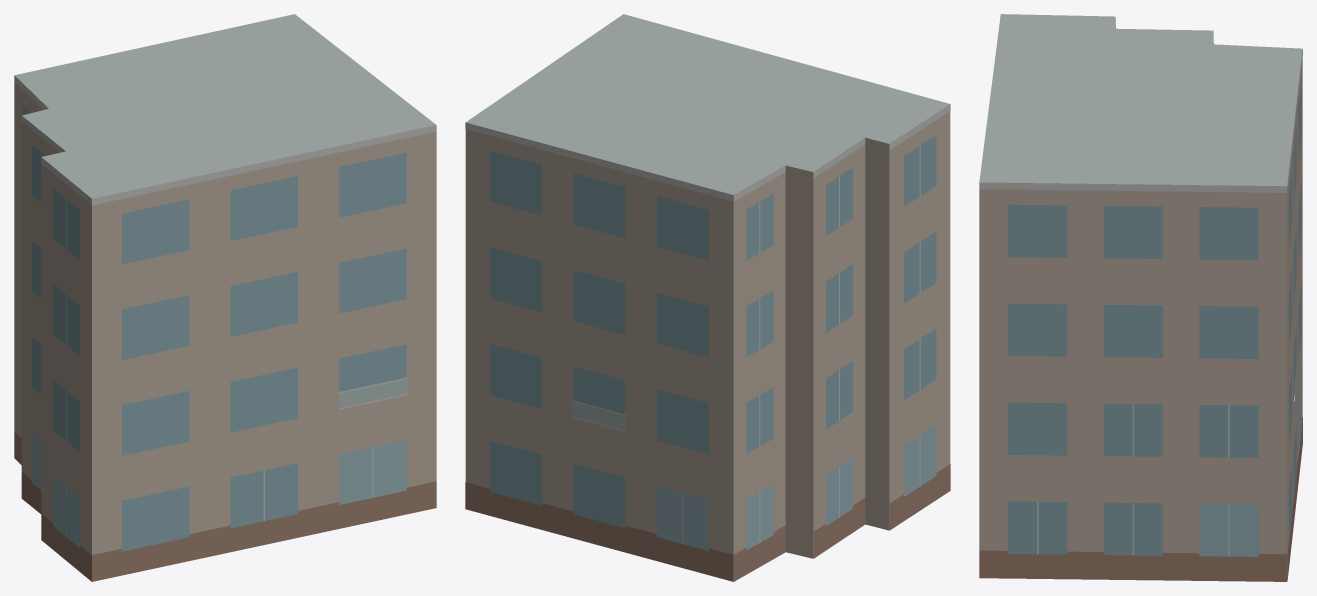
File: survey-upis-32603312.glb
The picture shows the model from 3 angles, left to right: view 1: azimuth 30°, elevation 25°; view 2: azimuth 150°, elevation 25°; view 3: azimuth 270°, elevation 25°; orthographic projection. The views are drawn at different scales.
Visible parts, largest first — view 1: survey-upis-32603312.tmp; view 2: survey-upis-32603312.tmp; view 3: survey-upis-32603312.tmp.
Part boxes in pixels (x1=…): survey-upis-32603312.tmp: x1=14, y1=14, x2=436, y2=581; survey-upis-32603312.tmp: x1=465, y1=14, x2=950, y2=581; survey-upis-32603312.tmp: x1=979, y1=14, x2=1302, y2=581.
Bounding box in the file's own units: 13.36 × 14.3 × 10.6.
